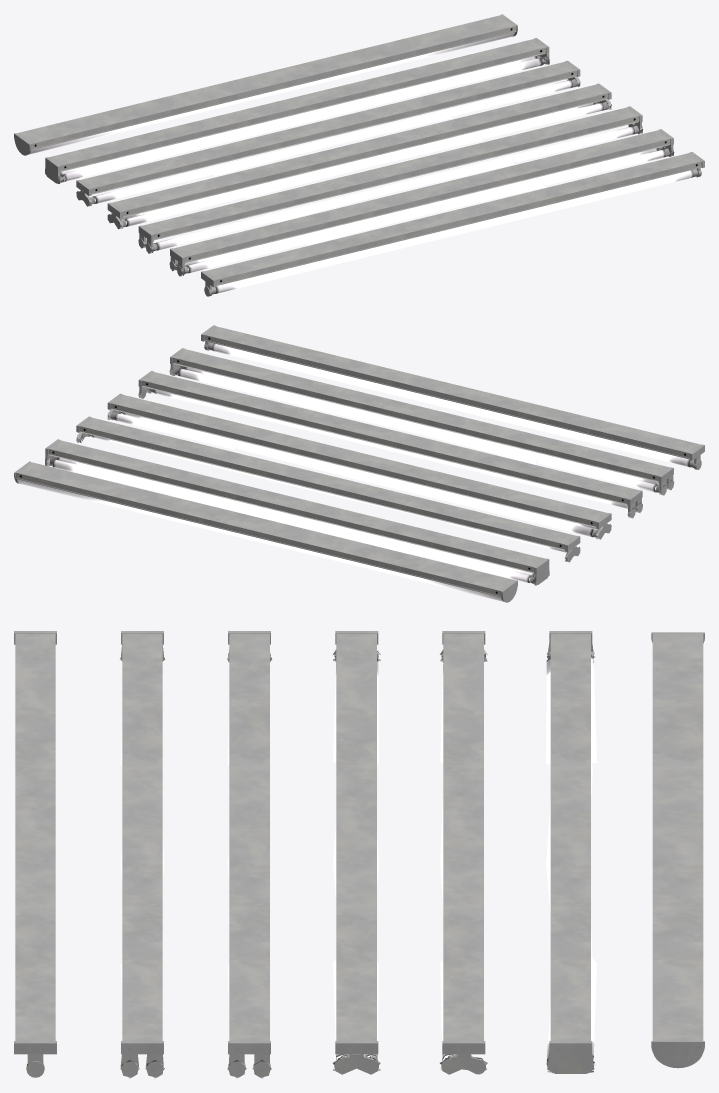
File: mounted_fluorescent_lights.fbx
3 views of the same model, one above another, from view 1: azimuth 30°, elevation 25°; view 2: azimuth 150°, elevation 25°; view 3: azimuth 270°, elevation 25° (orthographic). The views are drawn at different scales.
Parts seen in each view (by area): view 1: mounted_fluorescent_lights_b, mounted_fluorescent_lights_f, mounted_fluorescent_lights_d, mounted_fluorescent_lights_c, mounted_fluorescent_lights_e, mounted_fluorescent_lights_a, mounted_fluorescent_lights_g; view 2: mounted_fluorescent_lights_b, mounted_fluorescent_lights_f, mounted_fluorescent_lights_d, mounted_fluorescent_lights_a, mounted_fluorescent_lights_g, mounted_fluorescent_lights_c, mounted_fluorescent_lights_e; view 3: mounted_fluorescent_lights_g, mounted_fluorescent_lights_f, mounted_fluorescent_lights_d, mounted_fluorescent_lights_e, mounted_fluorescent_lights_b, mounted_fluorescent_lights_c, mounted_fluorescent_lights_a.
Part boxes in pixels (x1=…): mounted_fluorescent_lights_b: x1=169, y1=129, x2=674, y2=276; mounted_fluorescent_lights_f: x1=45, y1=38, x2=549, y2=183; mounted_fluorescent_lights_d: x1=107, y1=83, x2=611, y2=229; mounted_fluorescent_lights_c: x1=138, y1=106, x2=642, y2=253; mounted_fluorescent_lights_e: x1=76, y1=60, x2=580, y2=206; mounted_fluorescent_lights_a: x1=201, y1=152, x2=704, y2=296; mounted_fluorescent_lights_g: x1=14, y1=14, x2=517, y2=155; mounted_fluorescent_lights_b: x1=169, y1=348, x2=674, y2=495; mounted_fluorescent_lights_f: x1=45, y1=439, x2=549, y2=585; mounted_fluorescent_lights_d: x1=107, y1=393, x2=611, y2=539; mounted_fluorescent_lights_a: x1=201, y1=325, x2=704, y2=469; mounted_fluorescent_lights_g: x1=14, y1=461, x2=517, y2=602; mounted_fluorescent_lights_c: x1=138, y1=371, x2=642, y2=518; mounted_fluorescent_lights_e: x1=76, y1=416, x2=580, y2=562; mounted_fluorescent_lights_g: x1=651, y1=632, x2=704, y2=1068; mounted_fluorescent_lights_f: x1=546, y1=631, x2=596, y2=1073; mounted_fluorescent_lights_d: x1=333, y1=631, x2=380, y2=1074; mounted_fluorescent_lights_e: x1=440, y1=631, x2=487, y2=1074; mounted_fluorescent_lights_b: x1=119, y1=631, x2=164, y2=1078; mounted_fluorescent_lights_c: x1=227, y1=631, x2=272, y2=1078; mounted_fluorescent_lights_a: x1=14, y1=631, x2=56, y2=1077.
Bounding box in the file's own units: 91.22 × 3.65 × 64.54.
Materials: 2 (2 with a texture image).
